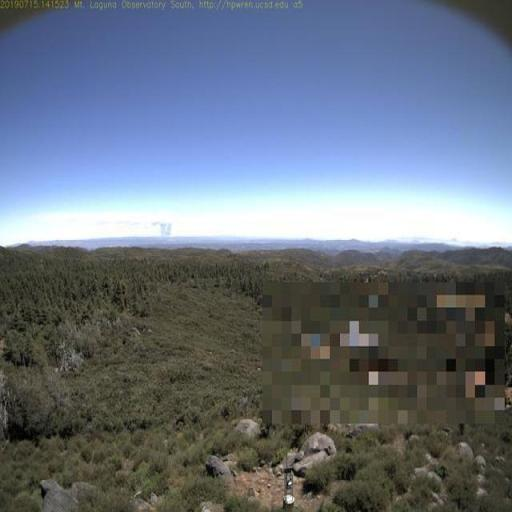smoke: (147, 214, 174, 244)
